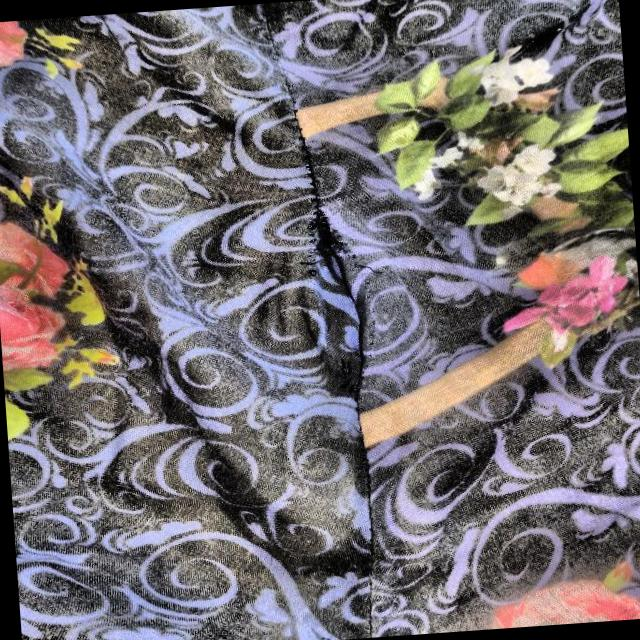gray stitch: (270, 182, 410, 436)
